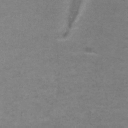finishing roll printing: (62, 0, 82, 38), (84, 46, 98, 54)
